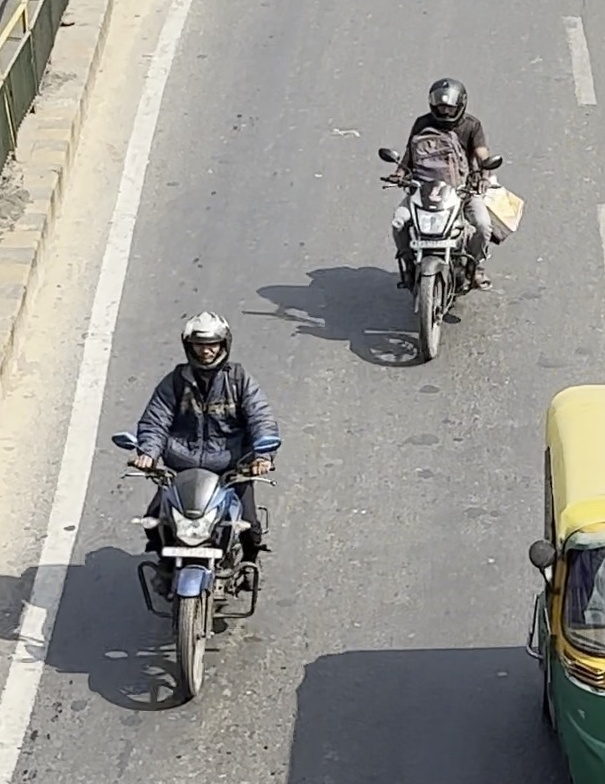BikeWithRider: (108, 303, 288, 707), (372, 71, 529, 370)
Helmet: (172, 303, 240, 377), (419, 72, 474, 129)
